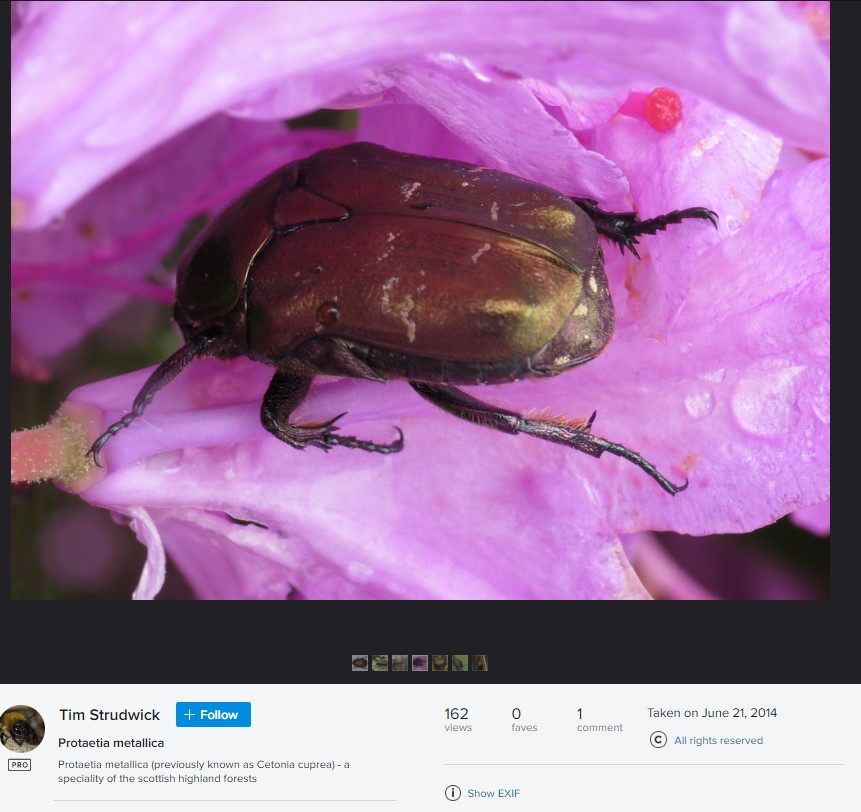Protaetia_metallica: (87, 130, 727, 510)
